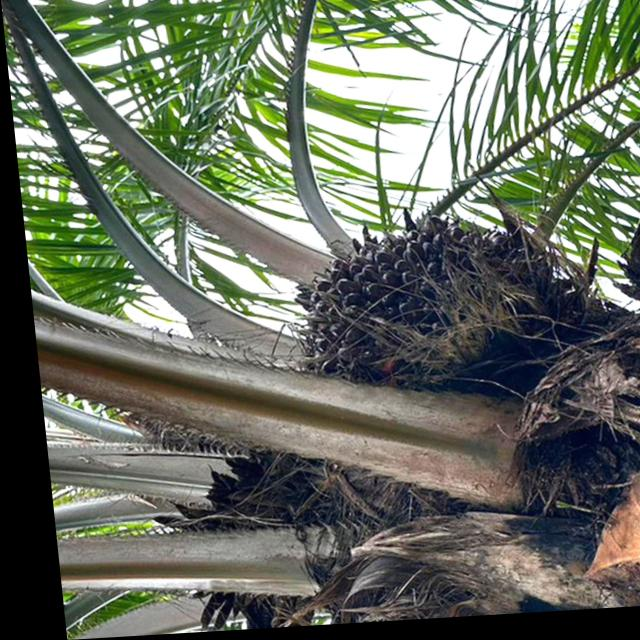ripe: (266, 194, 594, 430)
